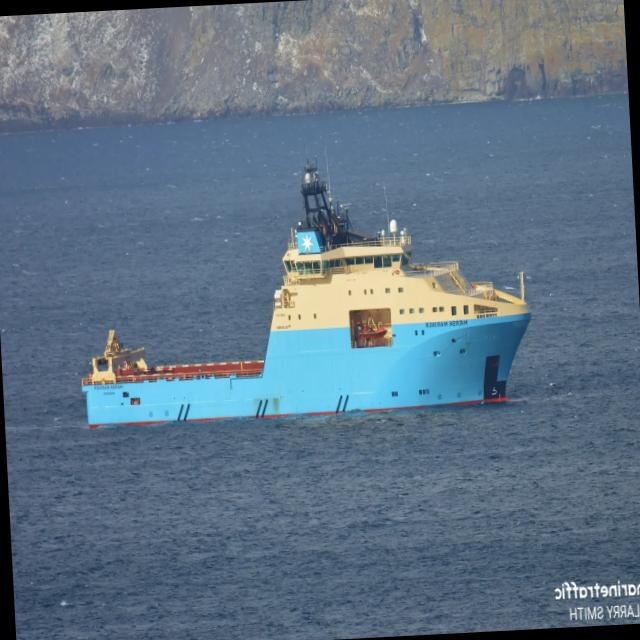Offshore: (83, 160, 531, 428)
